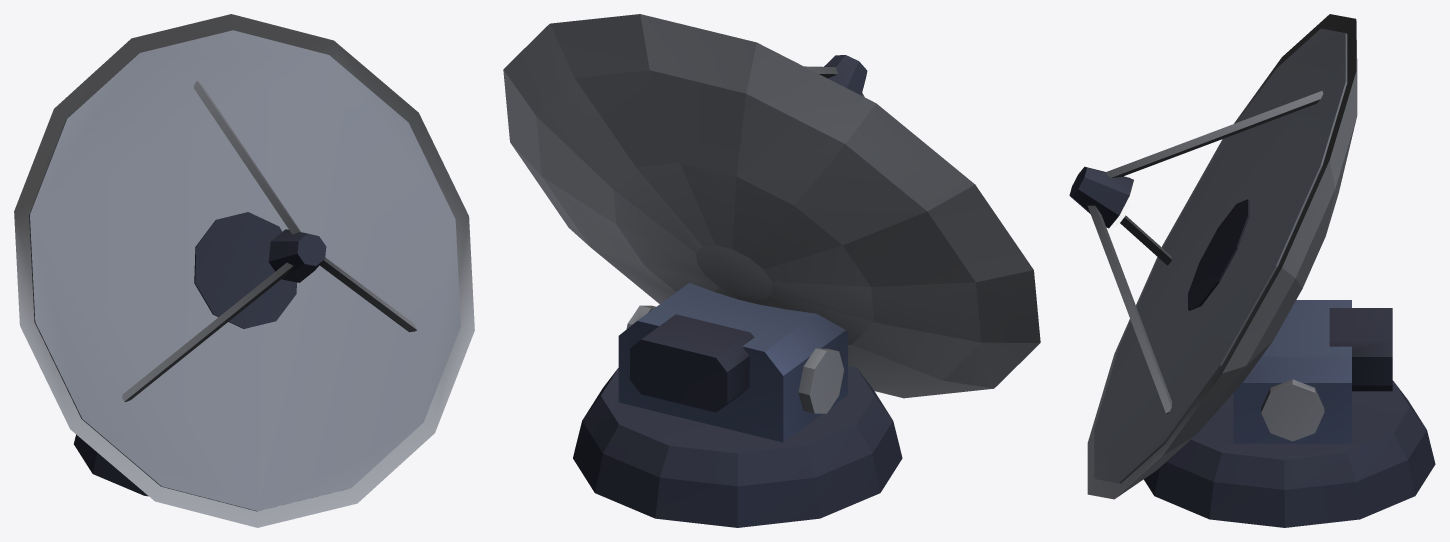
Rendered from sensor-dish.glb.
The picture shows the model from 3 angles, left to right: view 1: azimuth 30°, elevation 25°; view 2: azimuth 150°, elevation 25°; view 3: azimuth 270°, elevation 25°; orthographic projection. The views are drawn at different scales.
Visible parts, largest first — view 1: Sweep_Mesh, Body; view 2: Sweep_Mesh, Body; view 3: Sweep_Mesh, Body.
Boxes of the visible parts, <box> form: Sweep_Mesh: <box>14,14,474,527</box>; Body: <box>74,434,148,496</box>; Sweep_Mesh: <box>503,14,1040,442</box>; Body: <box>573,366,902,527</box>; Sweep_Mesh: <box>1069,14,1392,499</box>; Body: <box>1144,380,1435,527</box>.
Size of the model in its own units: 1.4 by 1.18 by 0.9269.
